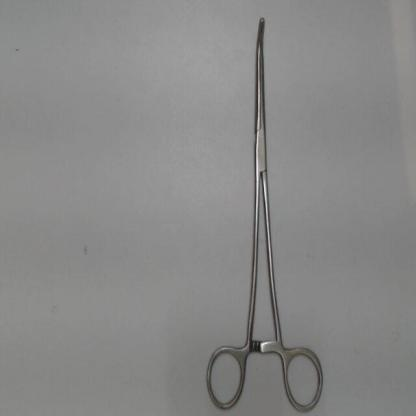Lahey Forceps: (202, 15, 327, 415)
